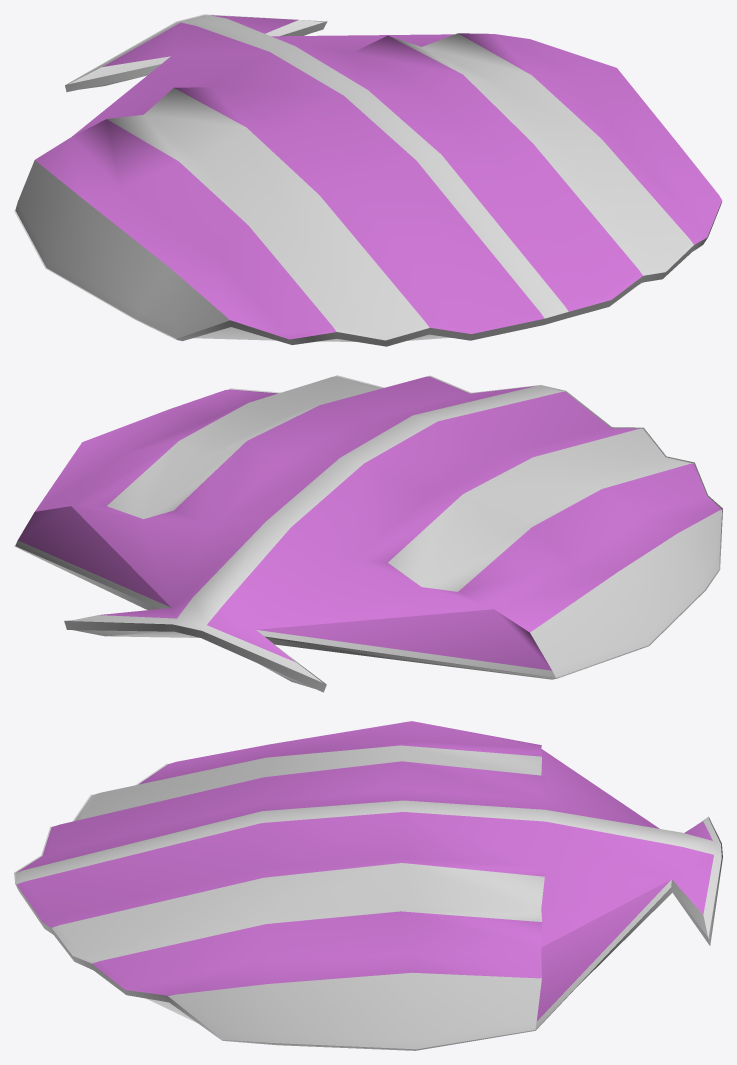
Rendered from muszelka.FBX.
3 views of the same model, one above another, from view 1: azimuth 30°, elevation 25°; view 2: azimuth 150°, elevation 25°; view 3: azimuth 270°, elevation 25° (orthographic). The views are drawn at different scales.
Parts seen in each view (by area): view 1: Plane001; view 2: Plane001; view 3: Plane001.
Part boxes in pixels (x1,y1,x2,y2): Plane001: [14, 14, 722, 346]; Plane001: [14, 375, 722, 692]; Plane001: [14, 721, 722, 1050].
Size of the model in its own units: 72.91 by 13.28 by 76.81.
